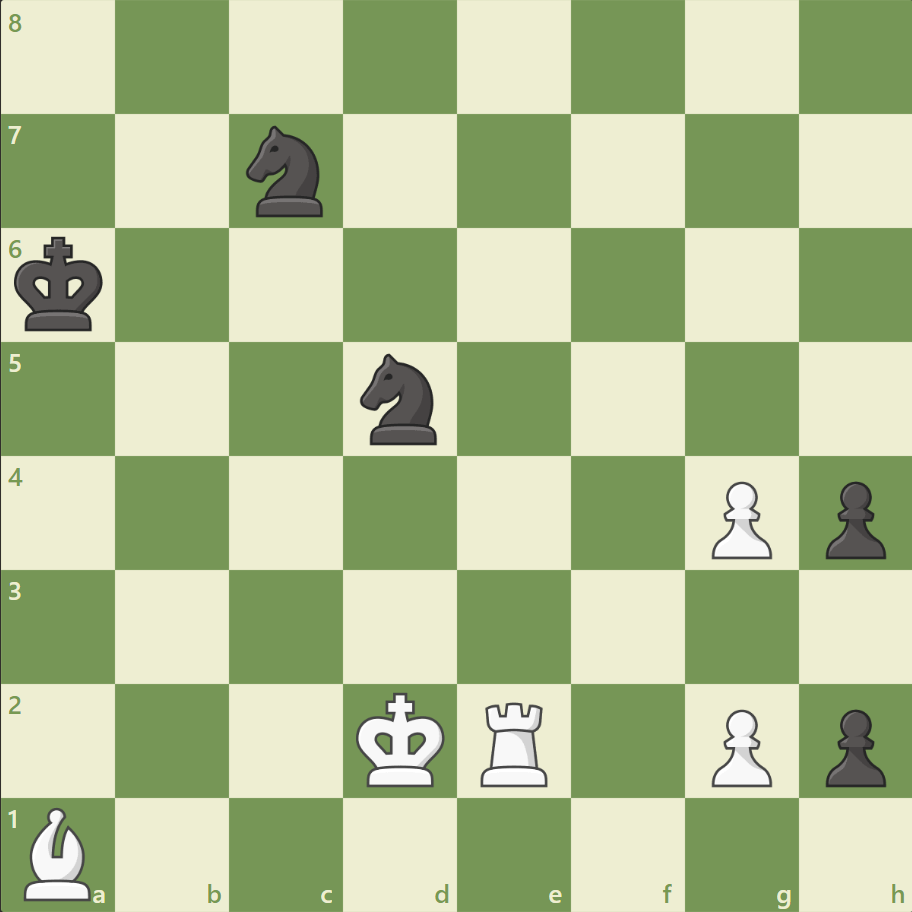B: (17, 801, 101, 904)
K: (351, 685, 451, 793)
P: (701, 473, 776, 564), (701, 700, 776, 791)
R: (473, 693, 556, 790)
k: (11, 231, 111, 339)
n: (351, 348, 449, 450), (238, 121, 335, 223)
p: (815, 473, 889, 564), (815, 700, 889, 791)
